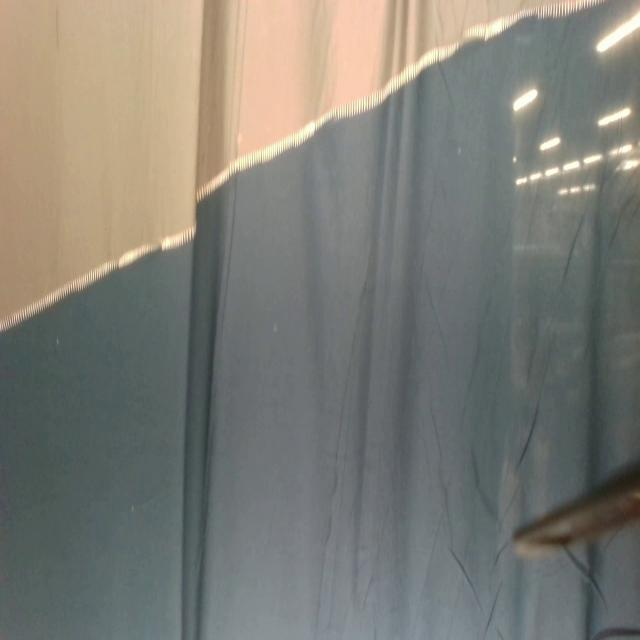crease: (316, 272, 368, 620), (565, 550, 610, 606), (469, 441, 495, 517), (607, 190, 638, 252), (562, 212, 587, 282), (516, 403, 540, 471), (448, 548, 479, 600), (485, 577, 504, 628), (590, 622, 640, 640), (430, 399, 444, 454), (492, 539, 511, 571)
